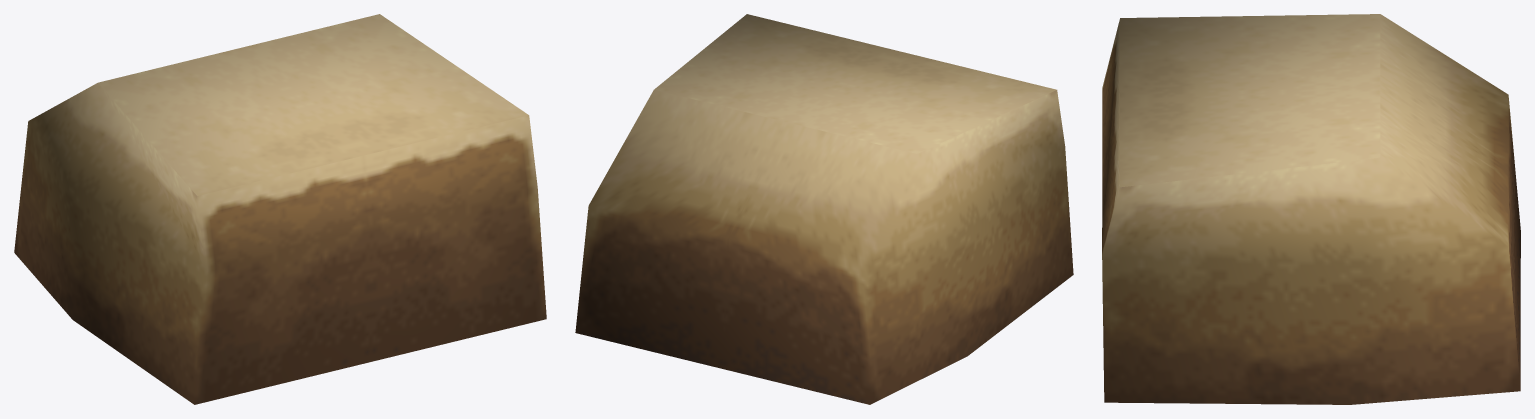
The model's file is cj_shitou1.fbx.
The picture shows the model from 3 angles, left to right: view 1: azimuth 30°, elevation 25°; view 2: azimuth 150°, elevation 25°; view 3: azimuth 270°, elevation 25°; orthographic projection. The views are drawn at different scales.
Visible parts, largest first — view 1: cj_shitou1; view 2: cj_shitou1; view 3: cj_shitou1.
Boxes of the visible parts, x1,y1,x2,y2 form: cj_shitou1: (14,14,546,404); cj_shitou1: (575,14,1073,404); cj_shitou1: (1102,14,1520,404).
Size of the model in its own units: 266 by 153 by 256.
